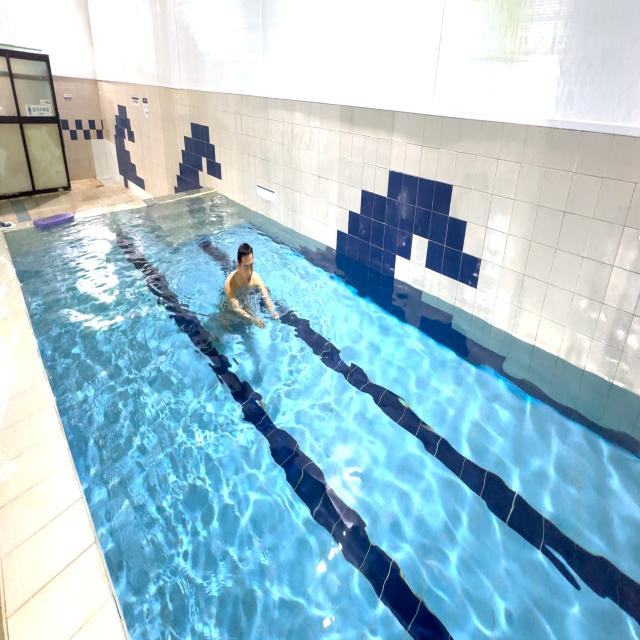Swimming: (212, 230, 284, 338)
